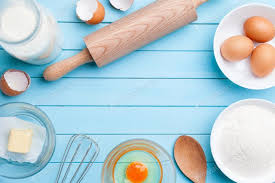Eggs: (252, 42, 275, 72), (225, 40, 254, 61), (245, 18, 275, 38)
